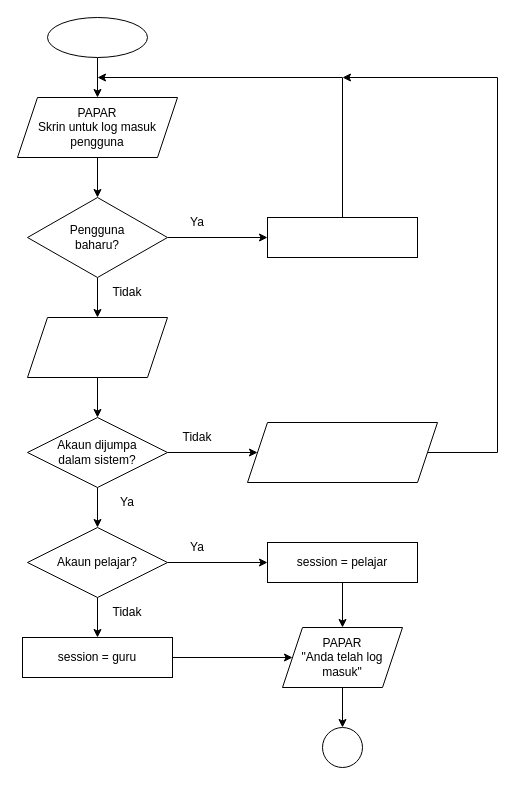
Some shapes in this 523 by 785 pixel diagram are drawn without their labels. Each missing label, with the box of its shape:
Daftar pengguna baharu: (266, 216, 418, 258)
MASUKKAN ID pengguna dan kata laluan: (26, 316, 168, 378)
MULA: (46, 16, 148, 58)
PAPAR "Kesalahan pada username atau password": (246, 422, 438, 482)
